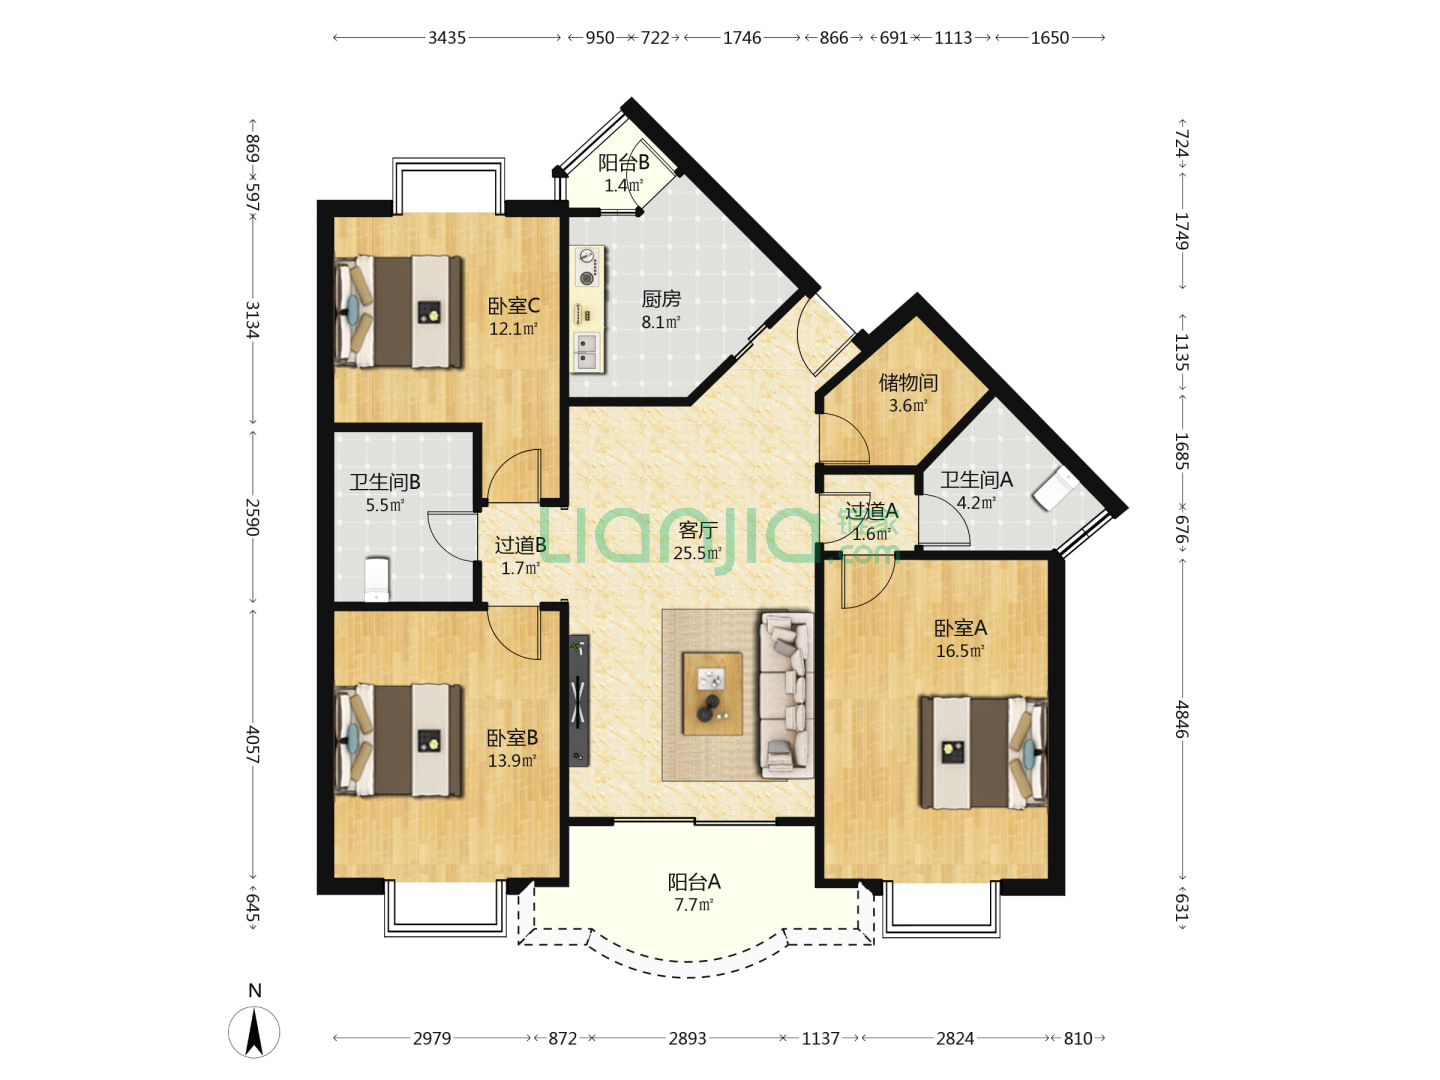DOOR(单开门): (795, 289, 859, 377), (621, 133, 681, 213), (838, 547, 898, 614), (813, 407, 876, 466), (484, 604, 544, 663), (912, 492, 975, 548), (814, 487, 872, 545), (486, 446, 543, 505), (421, 508, 481, 562)
DOOR（移门）: (725, 315, 776, 366)
WINDOWS(阳台): (609, 813, 781, 832)
